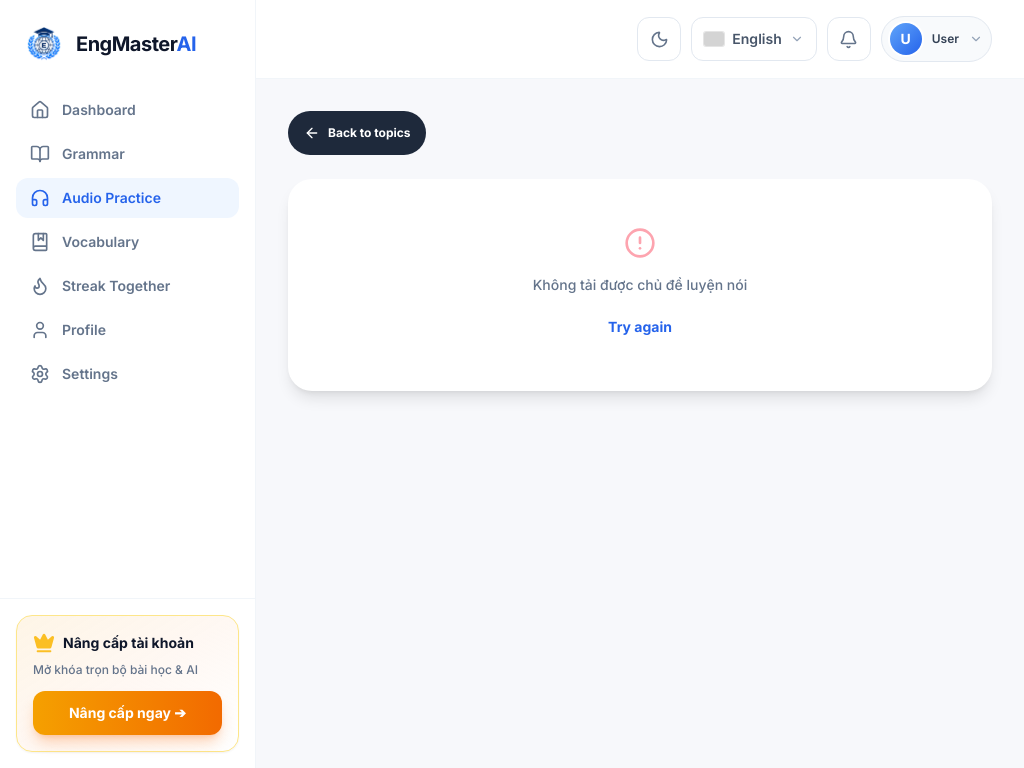
Test: Speaking scenario page › shows an explicit, retryable error — never a blank page
The width and height of the screenshot is (1024, 768).
Expected: the text "Không tải được chủ đề luyện nói" is shown, [533,276,747,293]
Click the button "Try again". click: (640, 327)
box: [596,311,684,343]
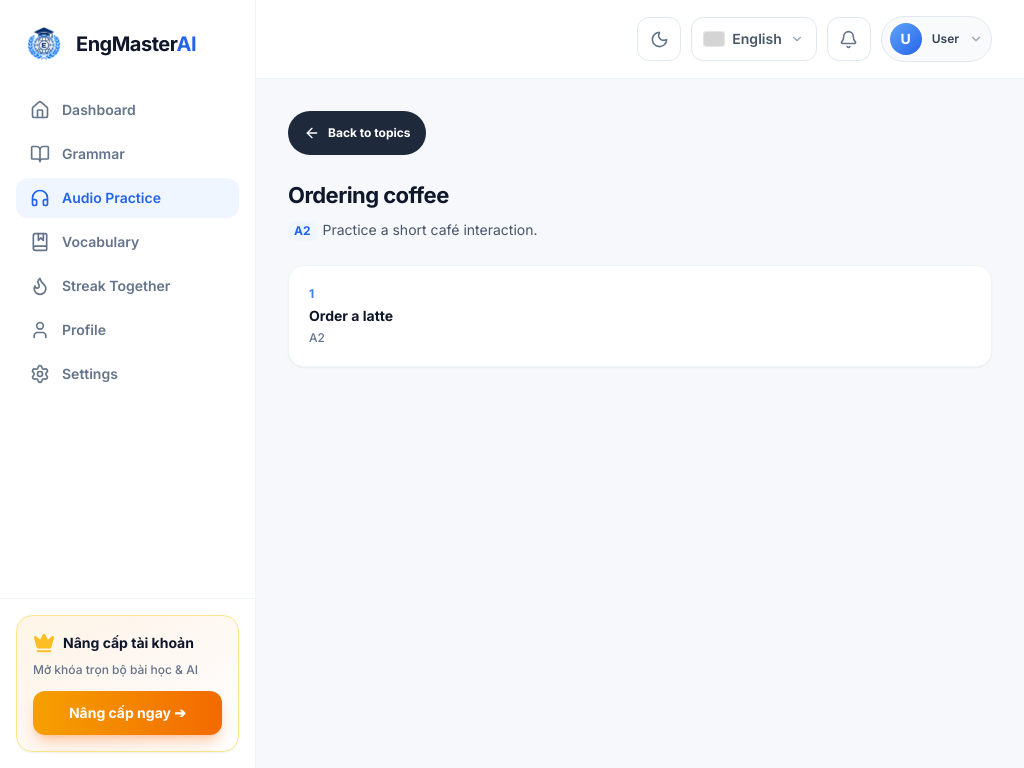
Now the text "Order a latte" is shown, box [309,307,393,324]
